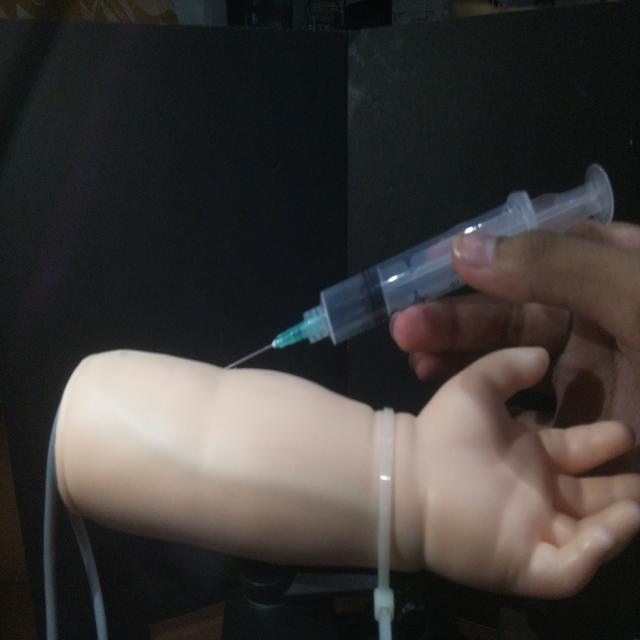21deg: (220, 157, 617, 373)
